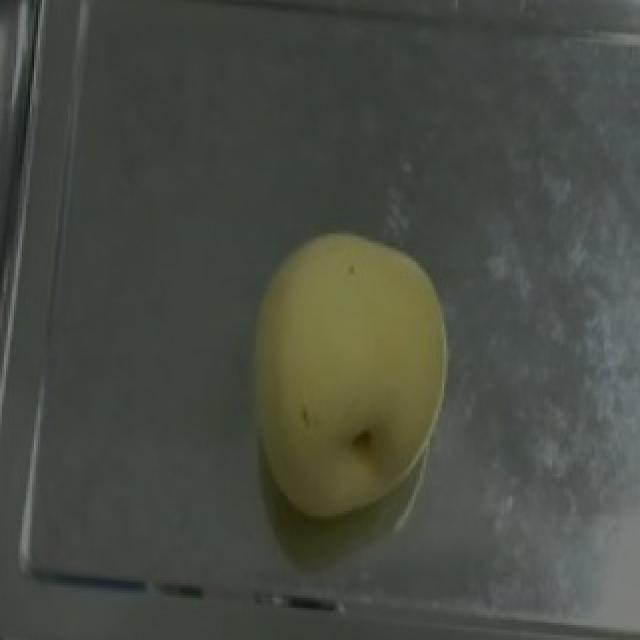Fruit: (226, 216, 462, 533)
